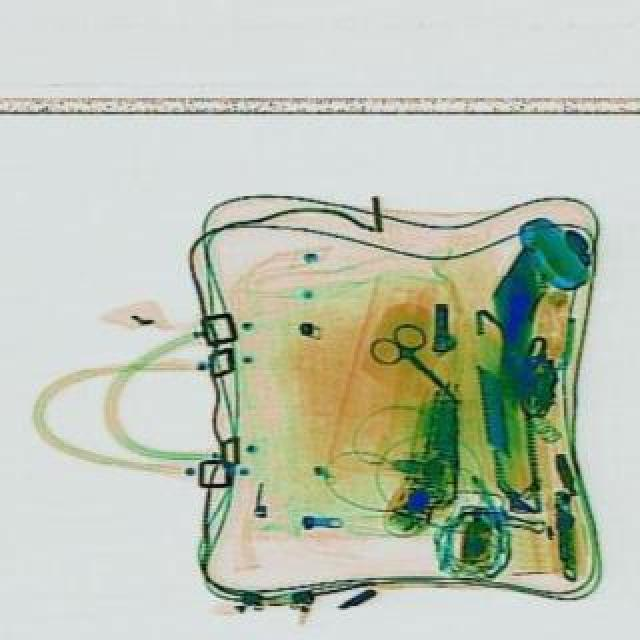pliers: (362, 314, 464, 412)
